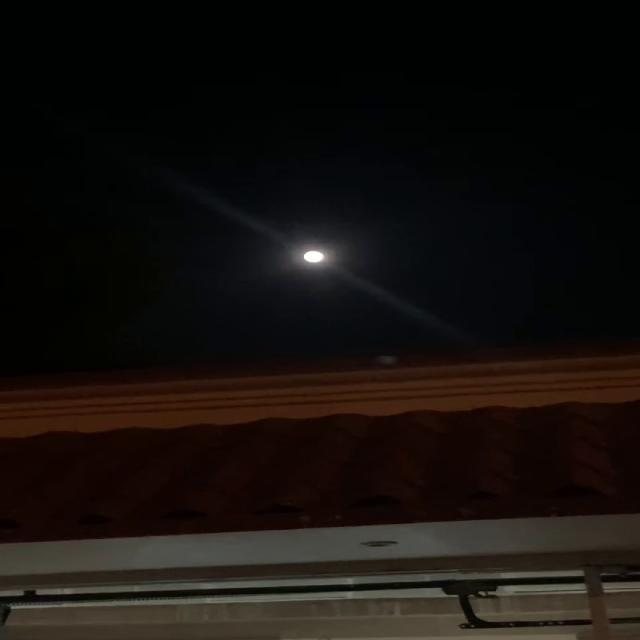moon: (290, 252, 318, 266)
